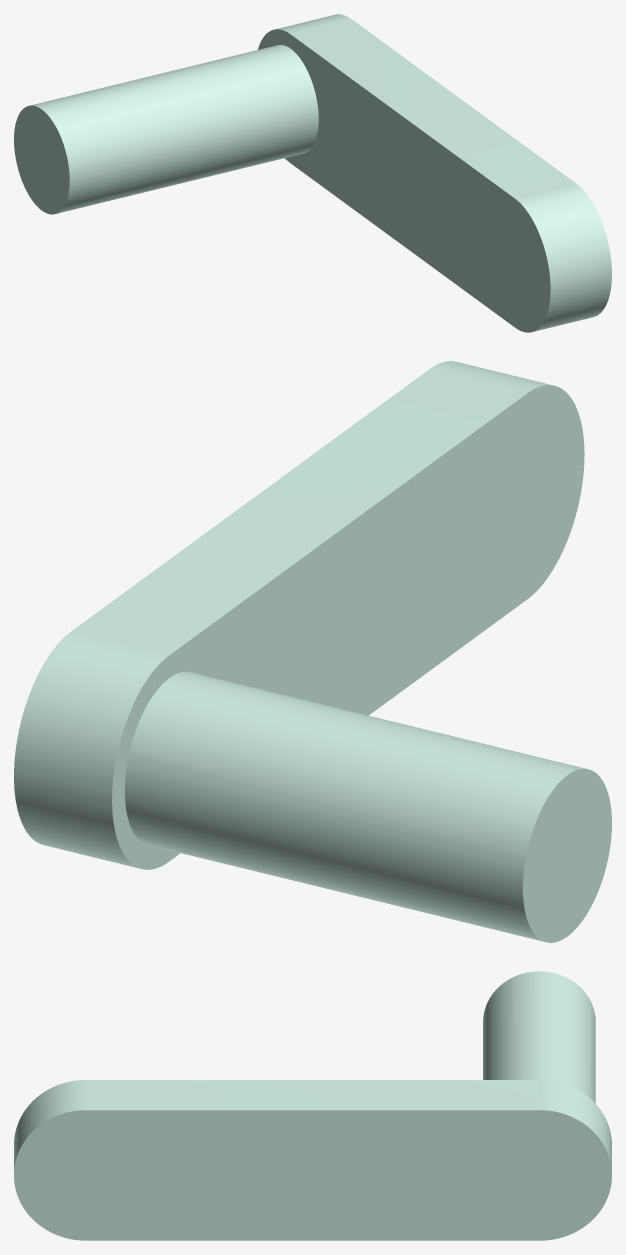
The picture shows the model from 3 angles, top to bottom: view 1: azimuth 30°, elevation 25°; view 2: azimuth 150°, elevation 25°; view 3: azimuth 270°, elevation 25°; orthographic projection. The views are drawn at different scales.
Visible parts, largest first — view 1: Renderer Node; view 2: Renderer Node; view 3: Renderer Node.
Part boxes in pixels (left/top/right/bottom): Renderer Node: left=14, top=14, right=611, bottom=332; Renderer Node: left=14, top=361, right=611, bottom=942; Renderer Node: left=14, top=971, right=611, bottom=1240.
Bounding box in the file's own units: 0.7109 × 0.2822 × 1.17.
